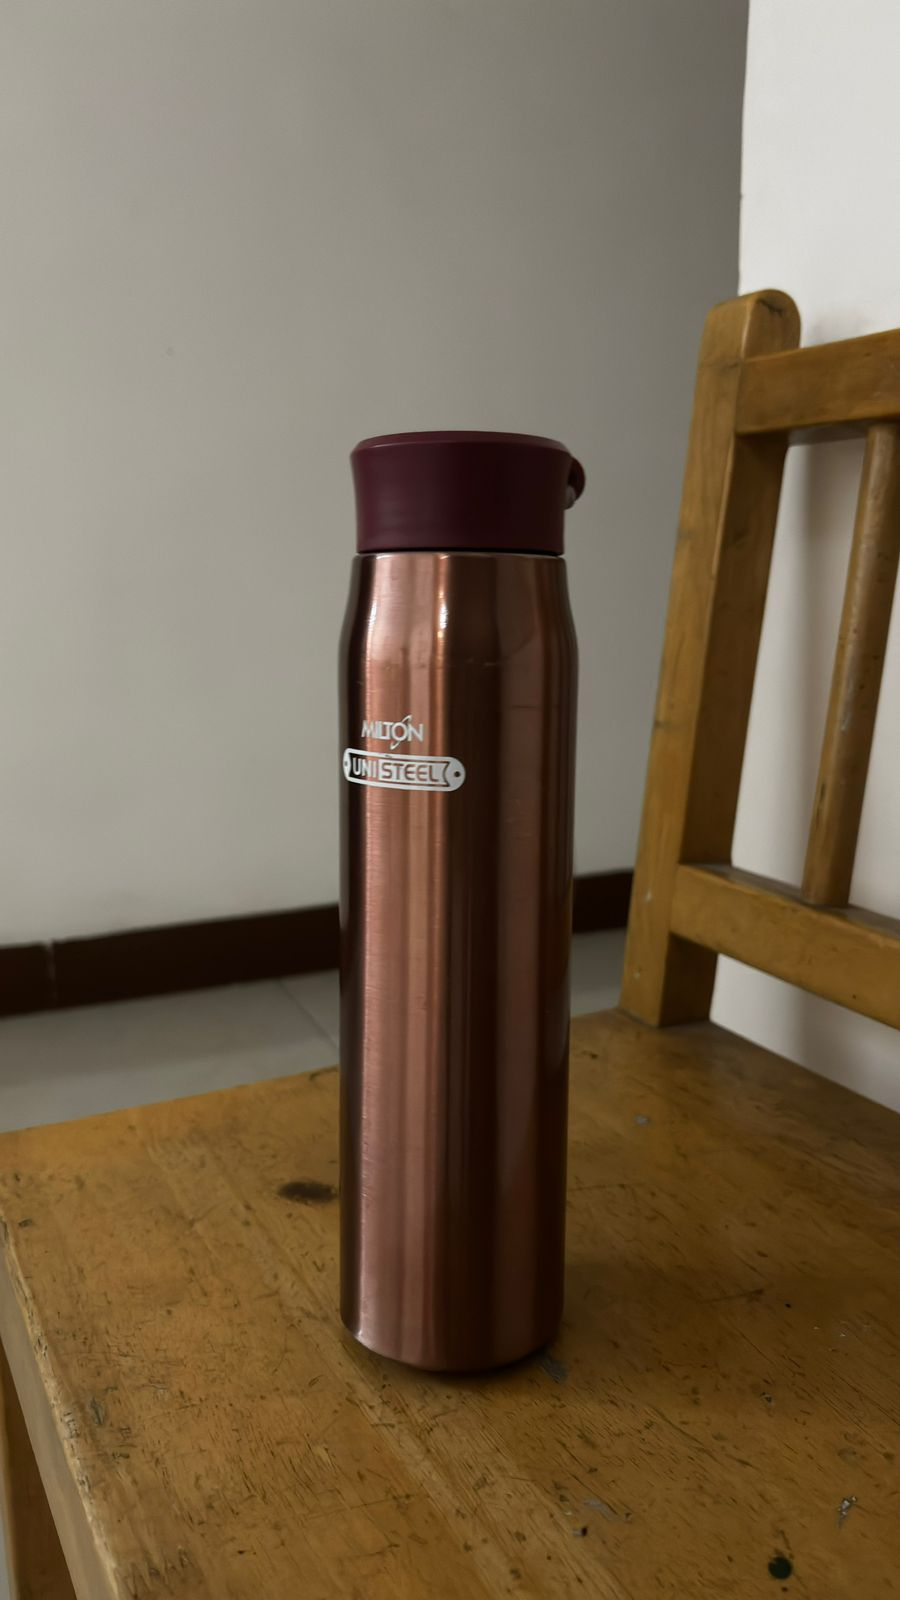bottle: (313, 423, 607, 1392)
